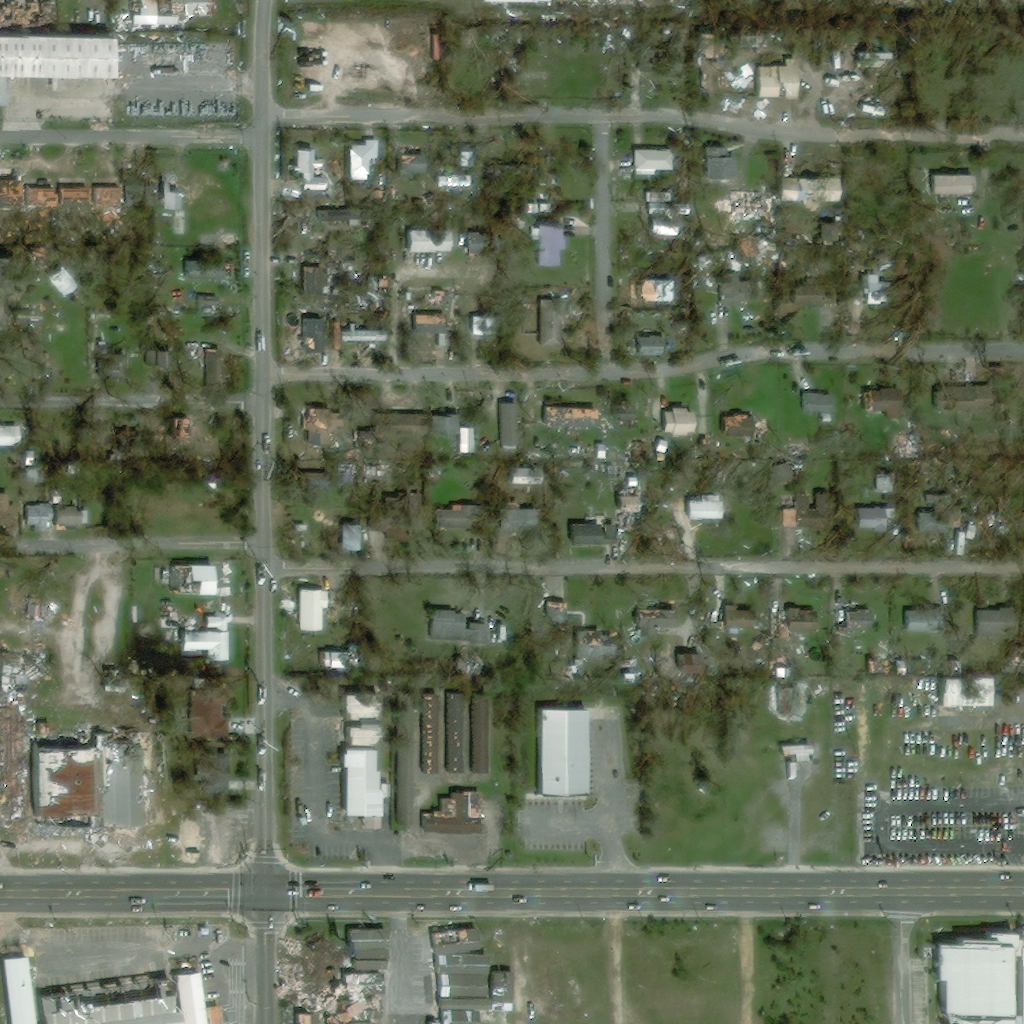destroyed: (1, 696, 29, 827), (288, 939, 344, 985), (295, 970, 342, 1014), (781, 668, 813, 718), (181, 814, 202, 867), (342, 975, 385, 997), (2, 649, 24, 691), (741, 195, 783, 216), (25, 598, 58, 621), (898, 436, 930, 455), (7, 260, 22, 288), (32, 470, 51, 484), (481, 58, 511, 66), (615, 465, 629, 482), (638, 447, 652, 462), (678, 33, 694, 45), (211, 235, 229, 245), (176, 237, 200, 244), (683, 315, 698, 326)
major_damage: (31, 733, 139, 828), (36, 973, 221, 1023), (934, 929, 1023, 1023), (134, 0, 219, 29), (937, 663, 988, 706), (706, 605, 758, 633), (309, 410, 348, 447), (169, 566, 212, 596), (542, 406, 598, 429), (408, 230, 453, 254), (193, 262, 241, 282), (334, 1002, 381, 1022), (3, 181, 32, 211), (474, 317, 503, 338), (33, 187, 60, 207), (65, 187, 92, 207), (100, 187, 127, 207), (428, 924, 473, 936), (300, 1015, 324, 1023)
minor_damage: (549, 604, 608, 660), (424, 792, 482, 836), (378, 495, 427, 545), (342, 695, 383, 745), (194, 692, 234, 738), (781, 495, 830, 530), (754, 58, 795, 98), (449, 695, 468, 776), (775, 607, 822, 636), (860, 388, 901, 421), (784, 179, 827, 209), (435, 506, 491, 529), (432, 964, 464, 1002), (424, 696, 439, 774), (789, 284, 832, 311), (625, 278, 671, 303), (732, 409, 769, 440), (635, 604, 677, 630), (413, 314, 447, 346), (584, 520, 625, 546), (698, 55, 721, 99), (860, 275, 891, 306), (46, 267, 76, 299), (838, 606, 872, 632), (321, 211, 372, 228), (56, 506, 88, 533), (627, 490, 648, 531), (494, 161, 537, 179), (303, 321, 325, 355), (349, 929, 388, 948), (26, 503, 52, 531), (621, 400, 645, 430), (327, 652, 367, 670), (108, 353, 134, 379), (311, 268, 335, 296), (398, 151, 426, 174), (162, 175, 180, 210), (437, 948, 481, 962), (0, 495, 19, 527), (805, 393, 834, 413), (476, 234, 502, 256), (508, 981, 524, 1015), (133, 186, 160, 206), (635, 338, 661, 357), (657, 192, 697, 204), (340, 523, 358, 549), (656, 205, 697, 215), (442, 177, 479, 188), (879, 475, 899, 494), (162, 615, 180, 632), (531, 205, 557, 214), (201, 296, 222, 307), (106, 345, 113, 355)
no_damage: (0, 33, 107, 106), (534, 709, 592, 801), (340, 750, 382, 814), (531, 217, 577, 268), (2, 957, 35, 1023), (400, 697, 416, 828), (183, 620, 230, 662), (425, 611, 480, 645), (438, 415, 481, 454), (941, 387, 997, 412), (292, 150, 325, 191), (383, 414, 435, 438), (540, 302, 567, 348), (973, 606, 1014, 636), (475, 696, 490, 777), (702, 146, 736, 180), (893, 609, 939, 634), (499, 402, 519, 456), (301, 591, 328, 631), (722, 272, 756, 303), (928, 174, 976, 195), (662, 408, 696, 437), (352, 140, 377, 179), (942, 499, 973, 530), (441, 1005, 494, 1023), (635, 151, 673, 176), (685, 495, 723, 520), (340, 325, 386, 345), (865, 509, 900, 534), (435, 936, 481, 950), (352, 951, 385, 970), (213, 352, 227, 396), (779, 744, 813, 762), (0, 426, 27, 447), (154, 352, 185, 369), (695, 655, 714, 672), (330, 324, 340, 349), (31, 445, 42, 467), (348, 467, 361, 481), (884, 257, 898, 269), (597, 444, 608, 458), (655, 439, 665, 451), (301, 527, 314, 534), (824, 416, 835, 423)
unclassified: (650, 53, 690, 77), (383, 963, 400, 1016), (699, 981, 716, 1023), (547, 966, 560, 1012), (639, 984, 653, 1023), (655, 981, 668, 1023), (561, 963, 573, 1008), (307, 481, 324, 506), (579, 957, 590, 995), (525, 1010, 547, 1023), (11, 594, 25, 613), (440, 292, 454, 302), (858, 298, 867, 311), (492, 0, 556, 1)
